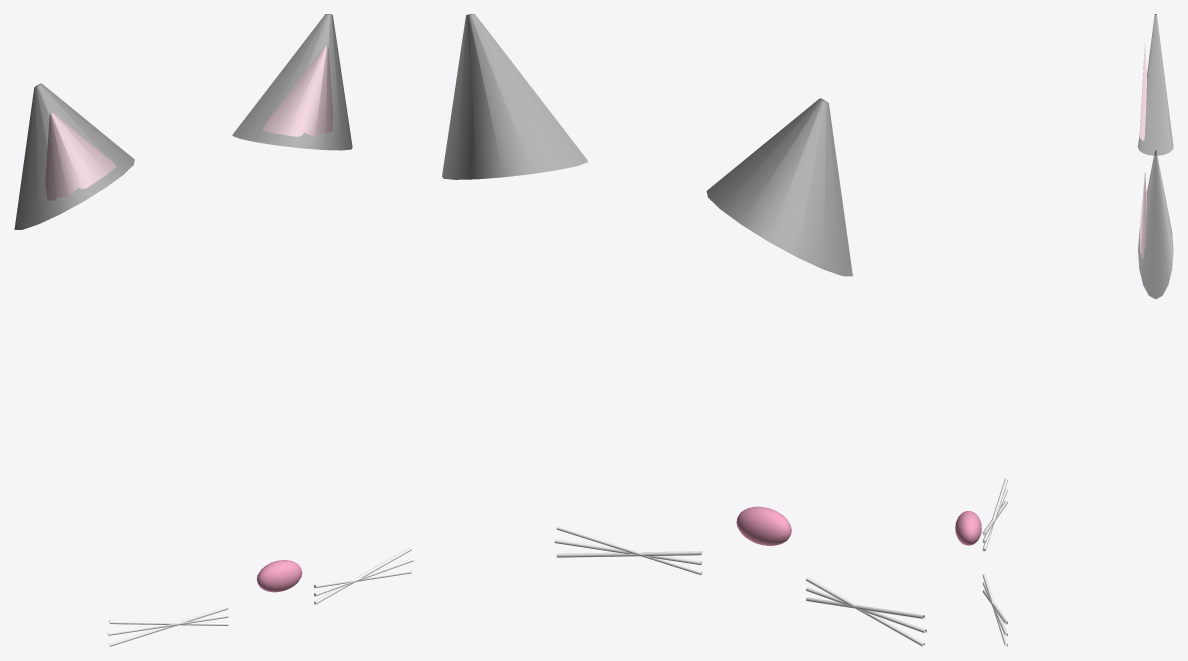
Rendered from cat.glb.
The picture shows the model from 3 angles, left to right: view 1: azimuth 30°, elevation 25°; view 2: azimuth 150°, elevation 25°; view 3: azimuth 270°, elevation 25°; orthographic projection. The views are drawn at different scales.
Visible parts, largest first — view 1: ears, ears_inner, whiskers, nose; view 2: ears, whiskers, nose; view 3: ears, whiskers, ears_inner, nose.
Boxes of the visible parts, <box> form: ears: <box>14,14,352,229</box>; ears_inner: <box>45,46,332,200</box>; whiskers: <box>107,547,413,646</box>; nose: <box>256,560,302,592</box>; ears: <box>442,14,852,276</box>; whiskers: <box>554,526,926,646</box>; nose: <box>736,506,791,545</box>; ears: <box>1138,14,1173,299</box>; whiskers: <box>982,478,1007,646</box>; ears_inner: <box>1139,44,1146,259</box>; nose: <box>955,511,981,545</box>.
Size of the model in its own units: 1.71 by 2.44 by 0.9791.
